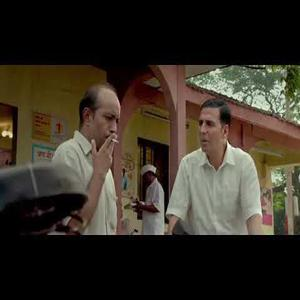cigarette: (106, 135, 120, 146)
